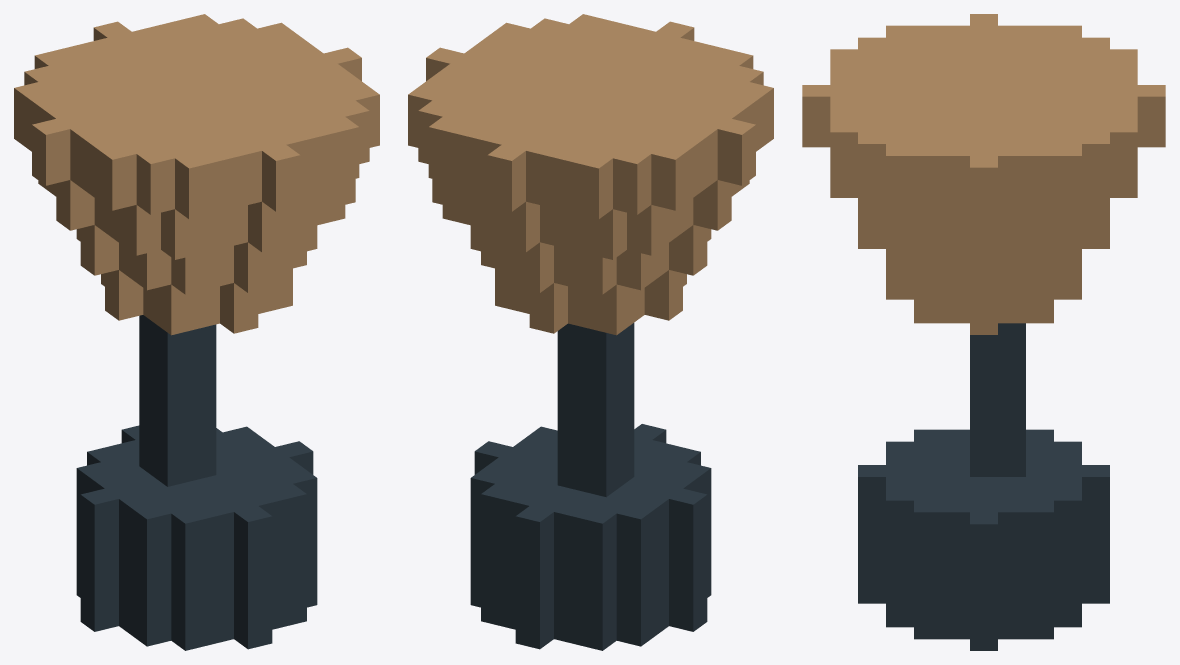
The model's file is marketing-02.glb.
3 views of the same model, side by side, from view 1: azimuth 30°, elevation 25°; view 2: azimuth 150°, elevation 25°; view 3: azimuth 270°, elevation 25° (orthographic).
Visible parts, largest first — view 1: Megaphone; view 2: Megaphone; view 3: Megaphone.
Part boxes in pixels (box(x1,y1,x2,y2)): Megaphone: box(14, 14, 379, 650); Megaphone: box(408, 14, 773, 650); Megaphone: box(802, 14, 1165, 650).
Bounding box in the file's own units: 1.04 × 1.6 × 1.04.
